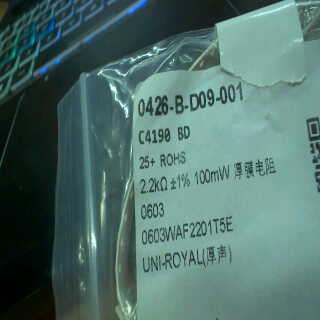2.2kR: (137, 173, 170, 199)
